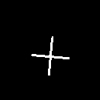single_crochet: (32, 37, 68, 74)
